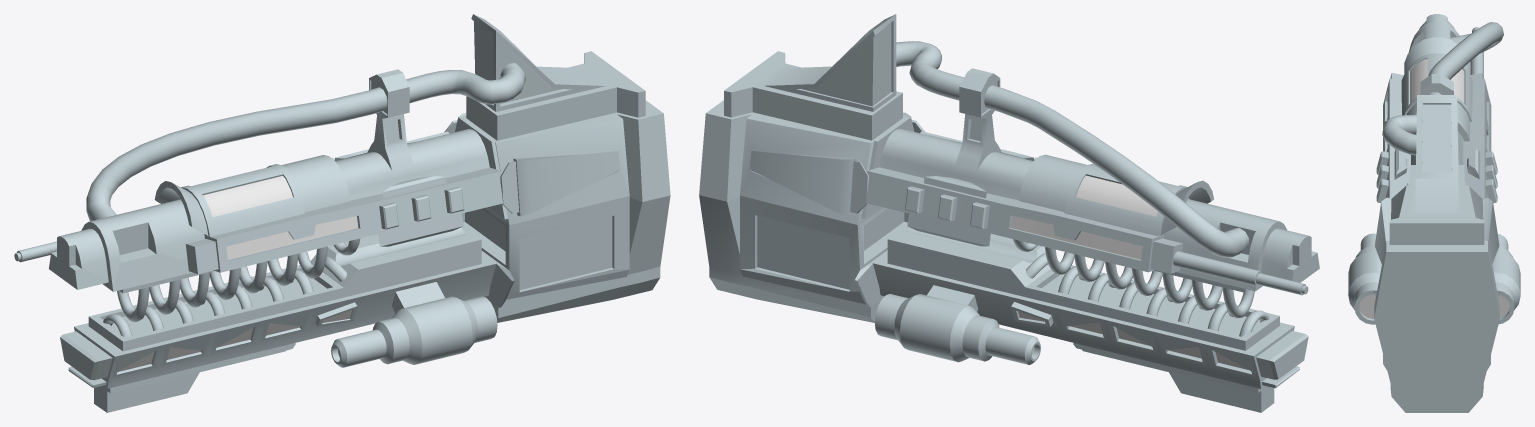
Rendered from RailgunHeavy.fbx.
The picture shows the model from 3 angles, left to right: view 1: azimuth 30°, elevation 25°; view 2: azimuth 150°, elevation 25°; view 3: azimuth 270°, elevation 25°; orthographic projection. The views are drawn at different scales.
Visible parts, largest first — view 1: Heavy.railgun; view 2: Heavy.railgun; view 3: Heavy.railgun.
Part boxes in pixels (x1,y1,x2,y2): Heavy.railgun: (14, 14, 670, 412); Heavy.railgun: (699, 14, 1319, 412); Heavy.railgun: (1348, 14, 1520, 412).
Bounding box in the file's own units: 0.5318 × 0.2498 × 0.153.
